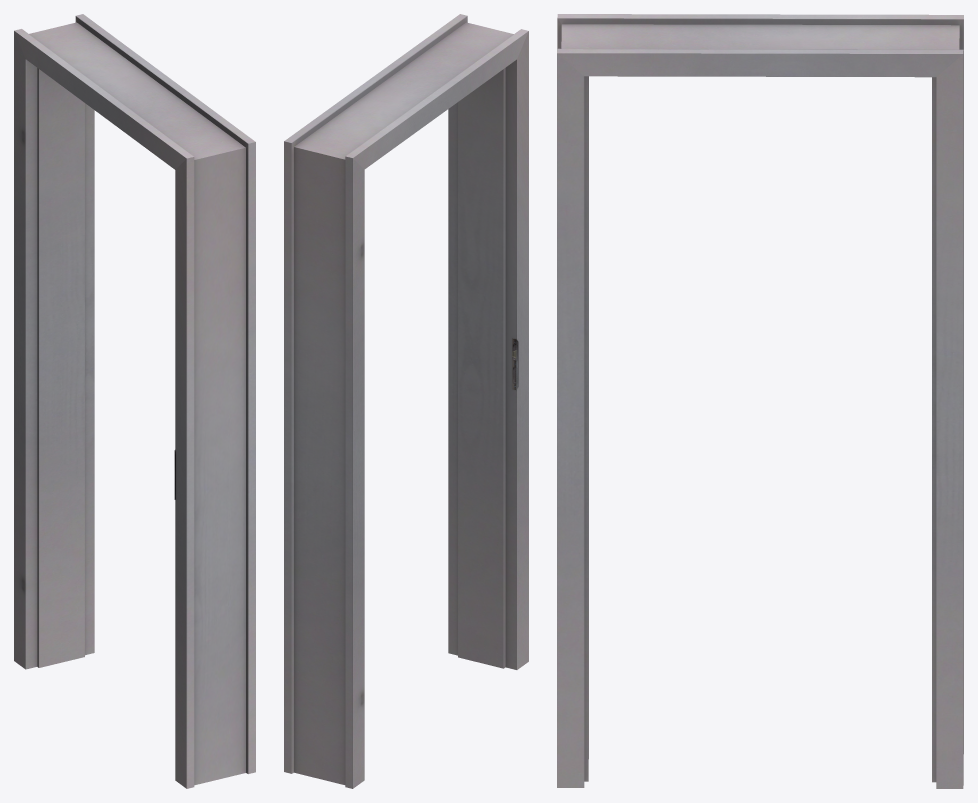
The model's file is doorFrame.glb.
3 views of the same model, side by side, from view 1: azimuth 30°, elevation 25°; view 2: azimuth 150°, elevation 25°; view 3: azimuth 270°, elevation 25° (orthographic). The views are drawn at different scales.
Visible parts, largest first — view 1: Plane.002; view 2: Plane.002; view 3: Plane.002.
Boxes of the visible parts, x1,y1,x2,y2 form: Plane.002: (14, 14, 255, 788); Plane.002: (284, 14, 528, 788); Plane.002: (557, 14, 963, 788).
Size of the model in its own units: 1.59 by 13.52 by 6.78.
1 material, 1 textured.
